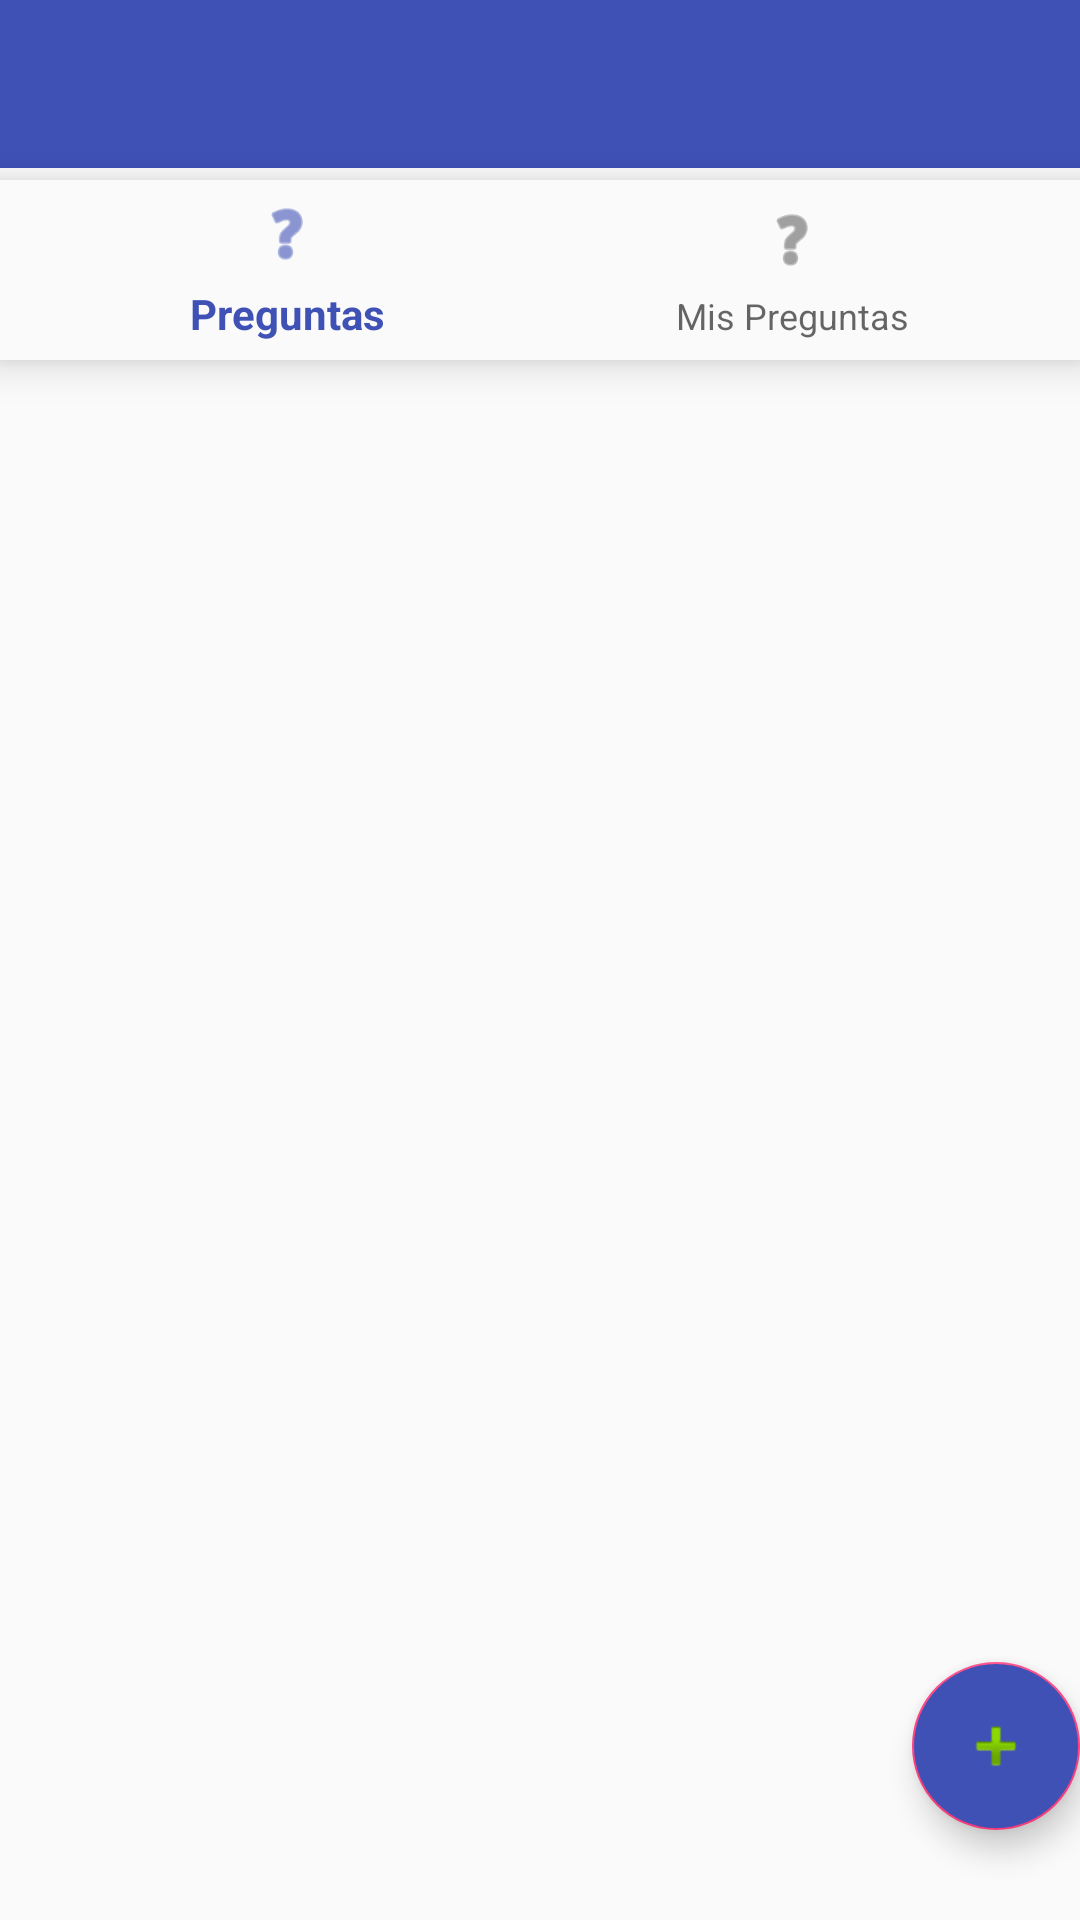

Screen size 1080 x 1920. Icon name, then its box in pixels as (x1, y1, x2, y2):
add: (912, 1662, 1080, 1830)
